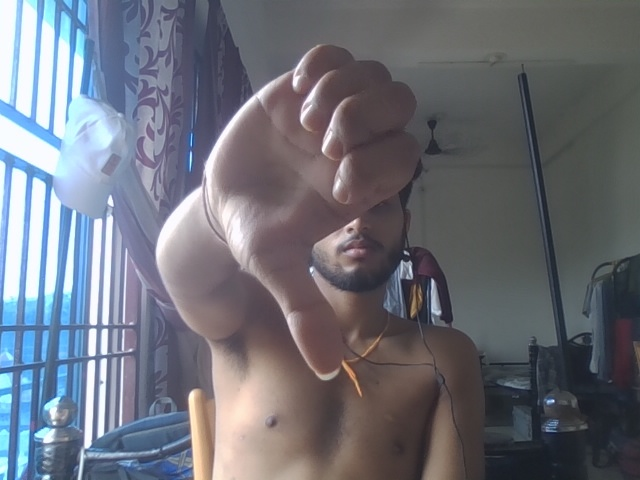Loser: (200, 38, 425, 384)
